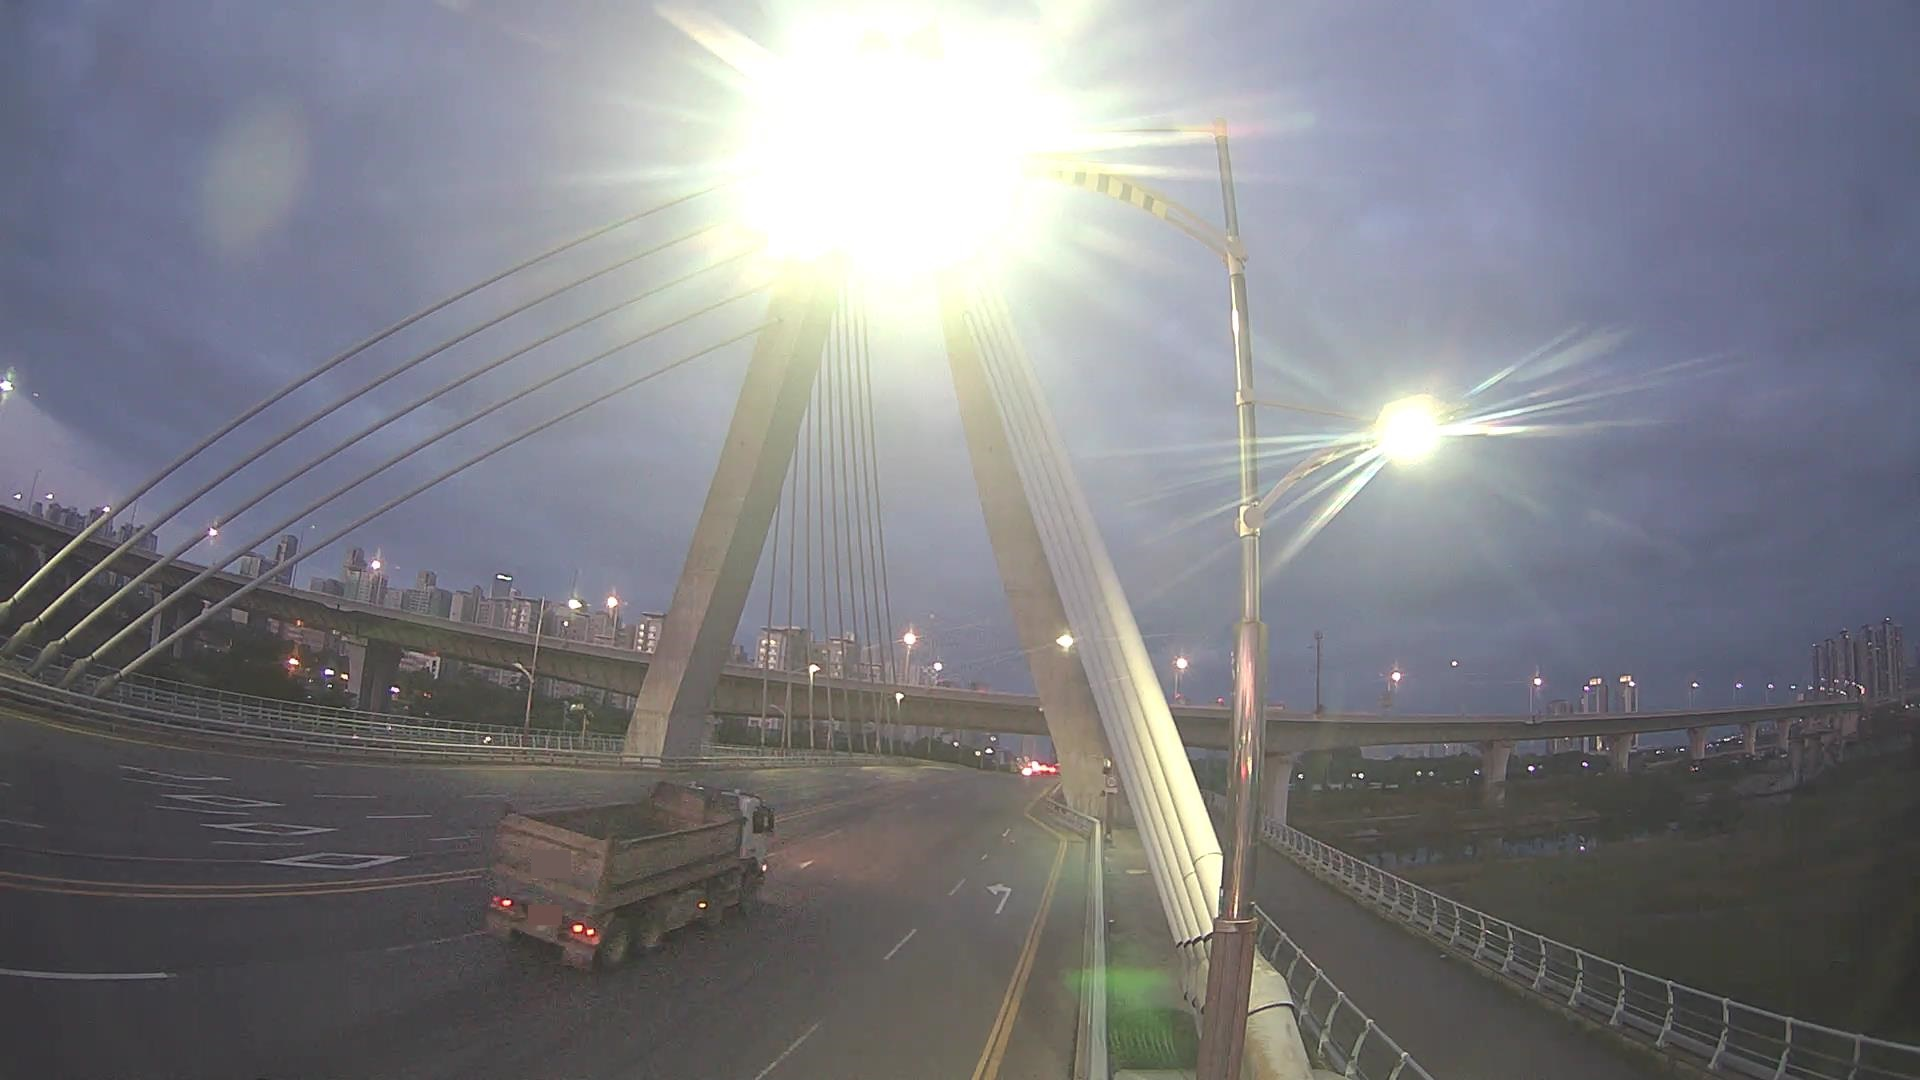정상차량: (479, 781, 774, 973)
